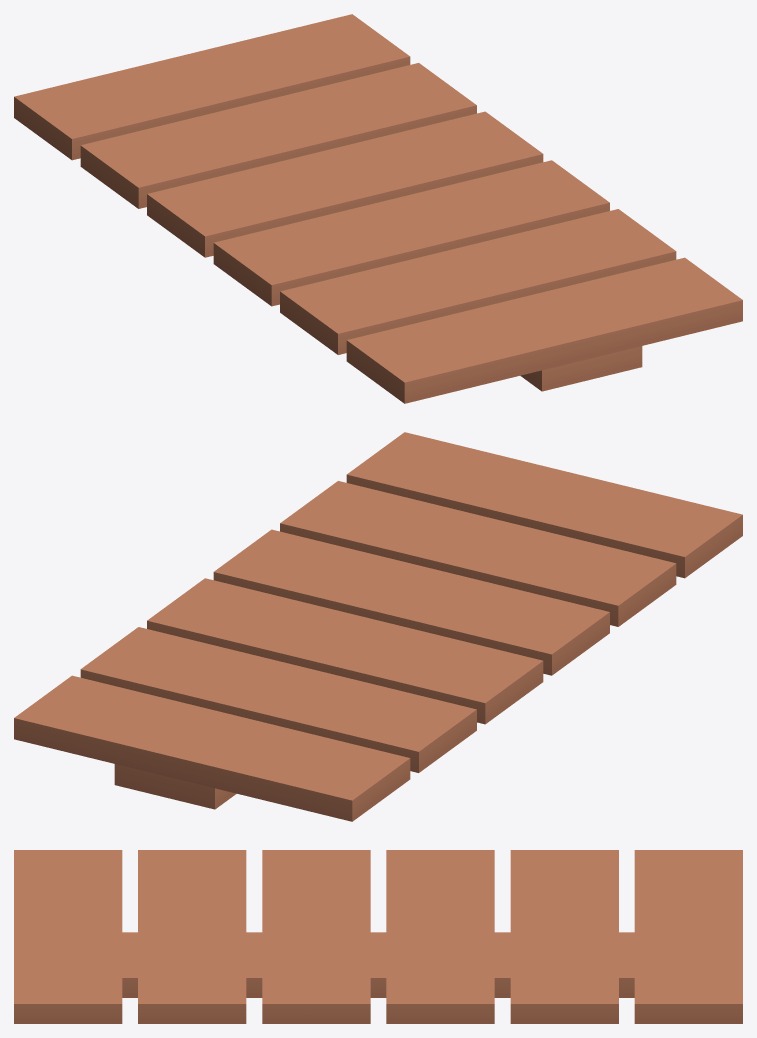
Rendered from planks-half.glb.
3 renders of one model, top to bottom at view 1: azimuth 30°, elevation 25°; view 2: azimuth 150°, elevation 25°; view 3: azimuth 270°, elevation 25°, orthographic. The views are drawn at different scales.
Parts seen in each view (by area): view 1: planks-half; view 2: planks-half; view 3: planks-half.
Boxes of the visible parts, x1,y1,x2,y2 form: planks-half: (14,14,742,403); planks-half: (14,432,742,821); planks-half: (14,850,742,1023).
Size of the model in its own units: 0.5 by 0.06 by 1.
Materials: 1 (1 with a texture image).
